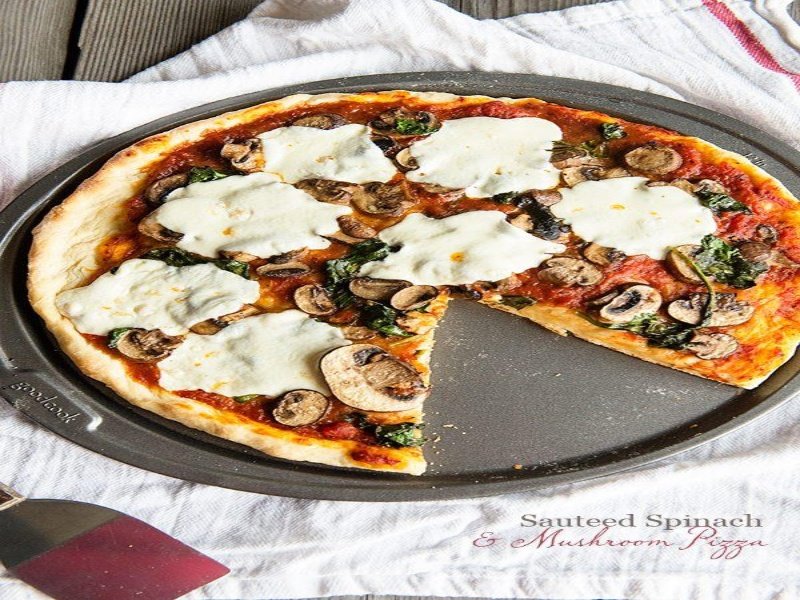champignon: (314, 340, 434, 415)
